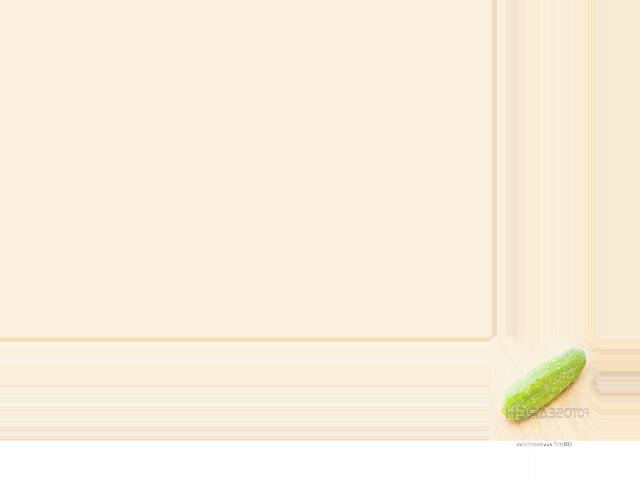cucumber: (499, 347, 586, 421)
